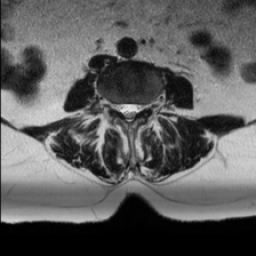CCS_normal: (125, 95, 132, 128)
LFS_stenosis: (141, 95, 151, 119)
LLS_normal: (132, 95, 141, 121)
RFS_normal: (109, 94, 117, 116)
RLS_normal: (117, 95, 125, 119)
